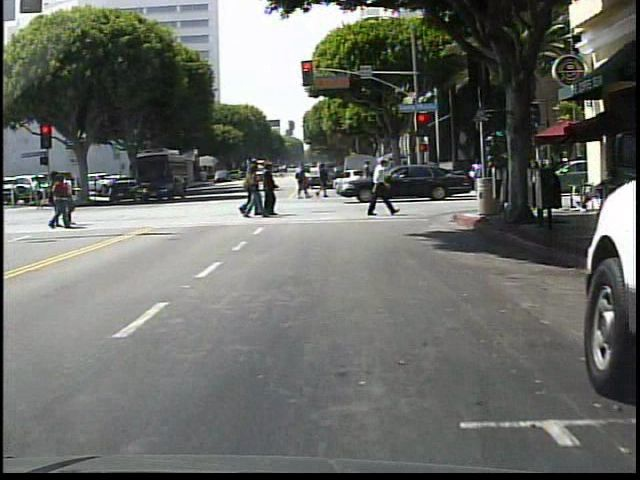person: (360, 157, 402, 223)
